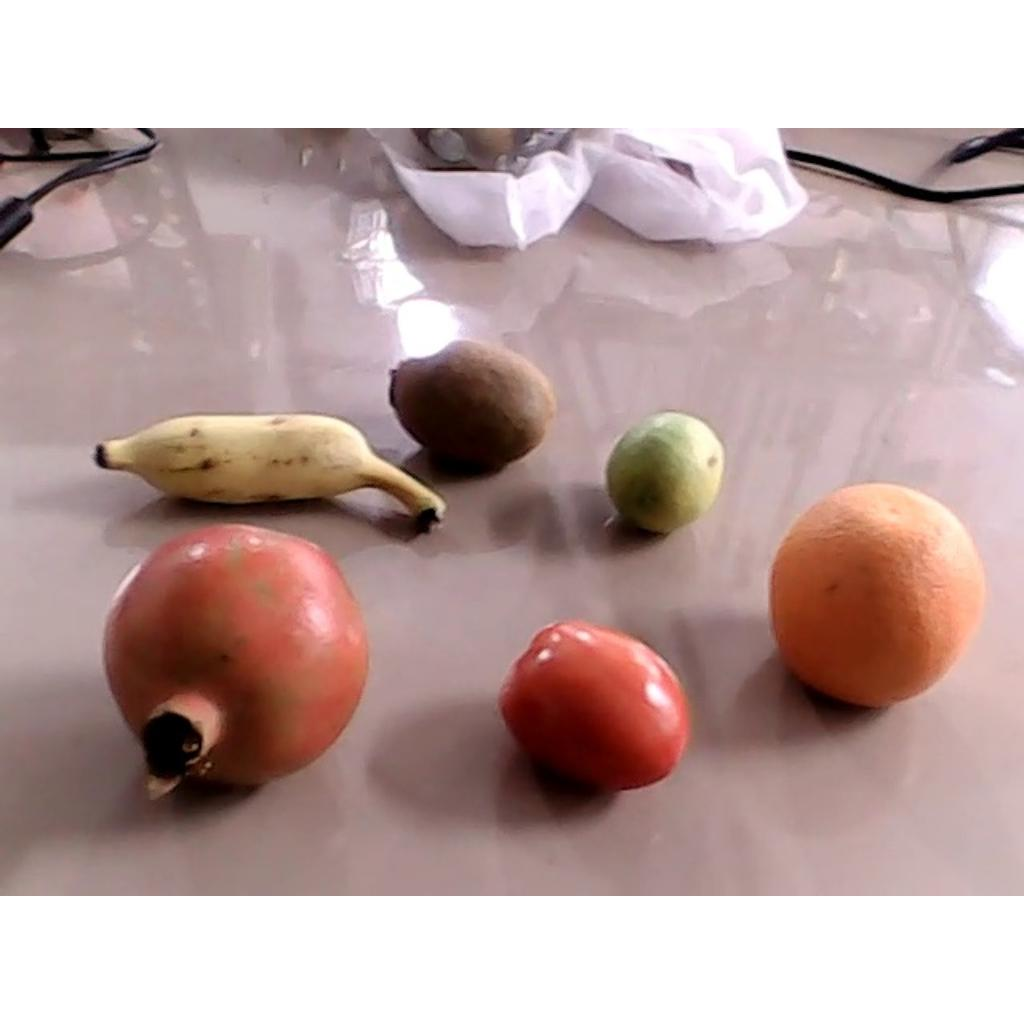kiwi: (383, 338, 558, 461)
lemon: (606, 411, 722, 533)
orange: (770, 482, 985, 708)
pomegranate: (102, 522, 369, 801)
tomato: (497, 620, 694, 792)
